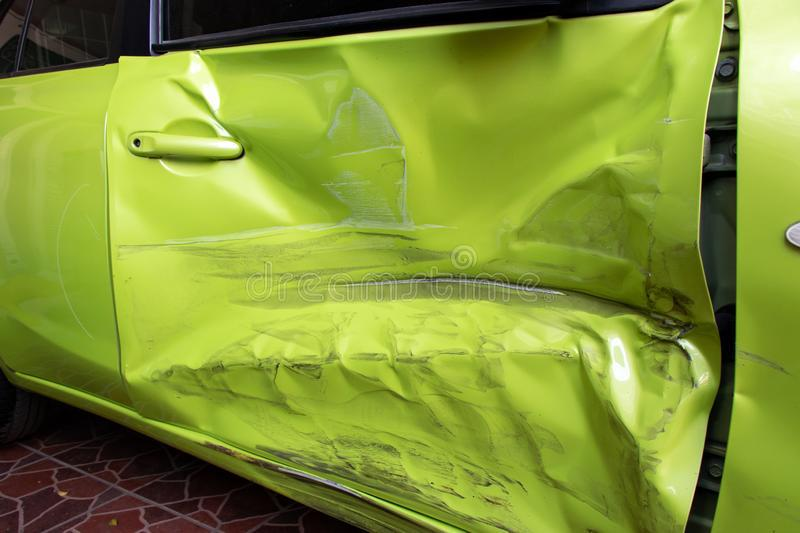doorouter-dent: (115, 17, 751, 525)
